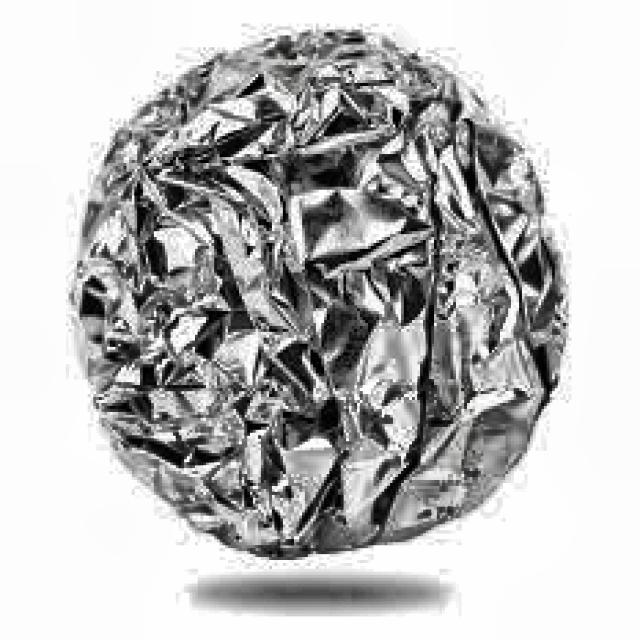Foil: (69, 22, 583, 570)
